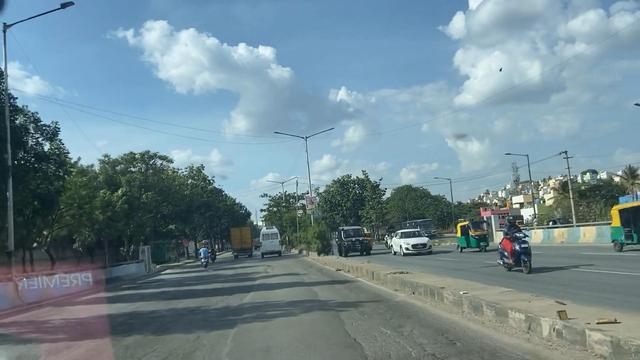HMV: (227, 220, 257, 263), (260, 223, 284, 260)
LMV: (198, 239, 213, 268)
RoadDamages: (365, 323, 464, 360), (351, 303, 422, 346), (143, 309, 196, 360)
